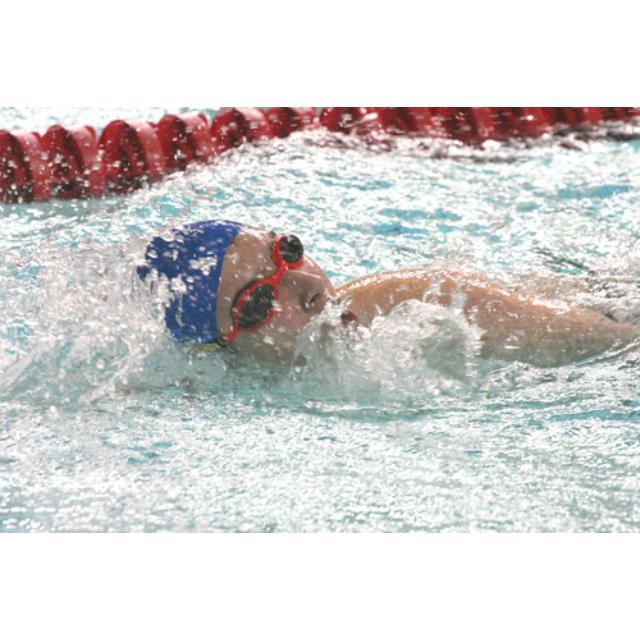human: (133, 219, 639, 394)
